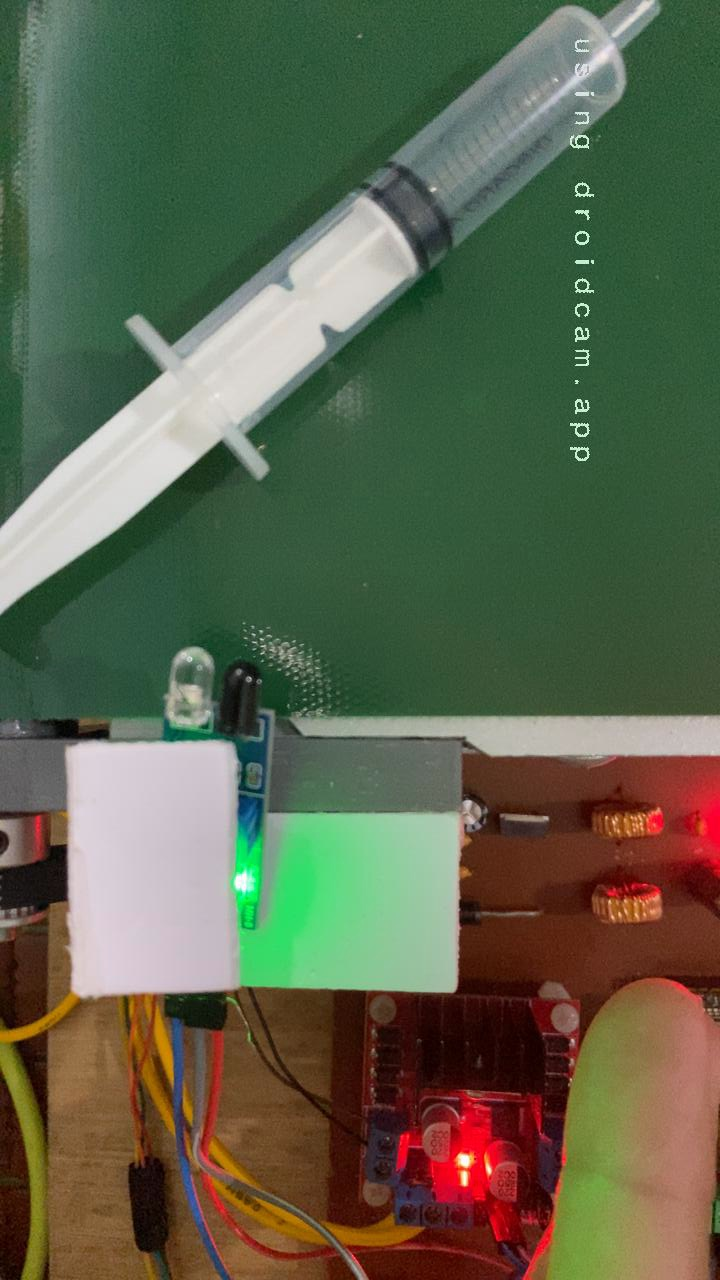syringe: (0, 0, 664, 623)
